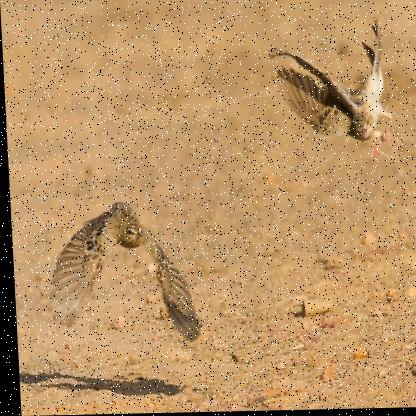Burung: (38, 190, 201, 352), (266, 18, 398, 166)
